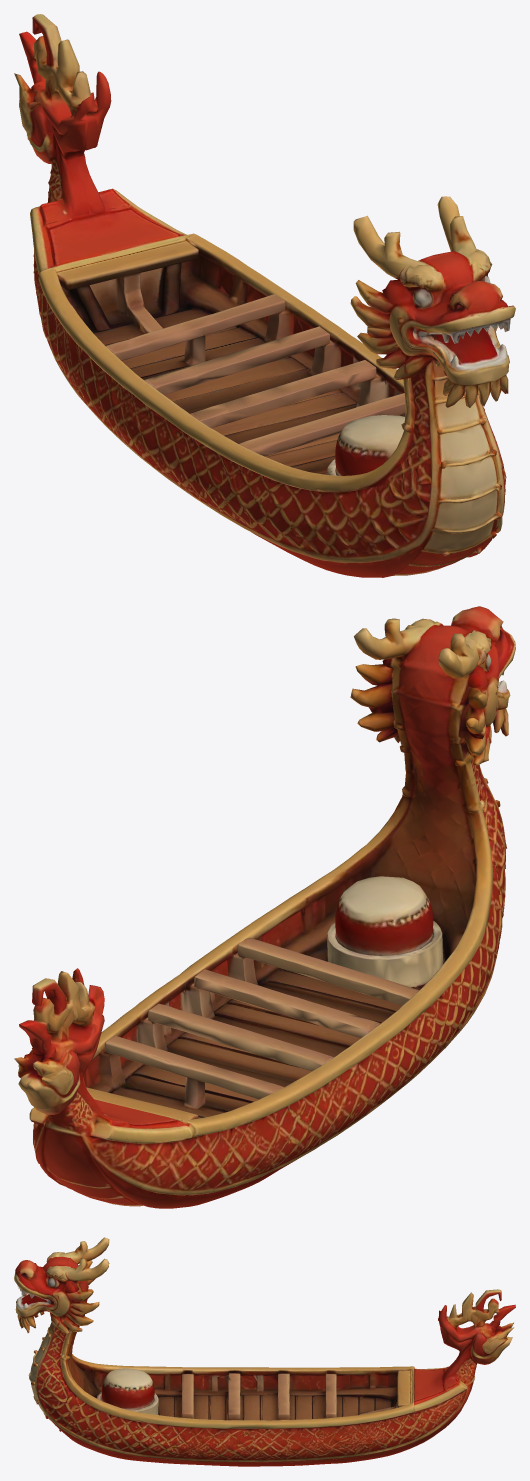
The model's file is hero-boat.glb.
The picture shows the model from 3 angles, top to bottom: view 1: azimuth 30°, elevation 25°; view 2: azimuth 150°, elevation 25°; view 3: azimuth 270°, elevation 25°; orthographic projection. The views are drawn at different scales.
Parts seen in each view (by area): view 1: tripo_node_be1329b9-5e84-4e80-b7c9-0b0ef958eddc; view 2: tripo_node_be1329b9-5e84-4e80-b7c9-0b0ef958eddc; view 3: tripo_node_be1329b9-5e84-4e80-b7c9-0b0ef958eddc.
Boxes of the visible parts, <box> form: tripo_node_be1329b9-5e84-4e80-b7c9-0b0ef958eddc: <box>14,14,515,577</box>; tripo_node_be1329b9-5e84-4e80-b7c9-0b0ef958eddc: <box>14,606,515,1208</box>; tripo_node_be1329b9-5e84-4e80-b7c9-0b0ef958eddc: <box>14,1237,515,1466</box>.
Bounding box in the file's own units: 0.2687 × 0.438 × 0.9834.
1 material, 1 textured.
